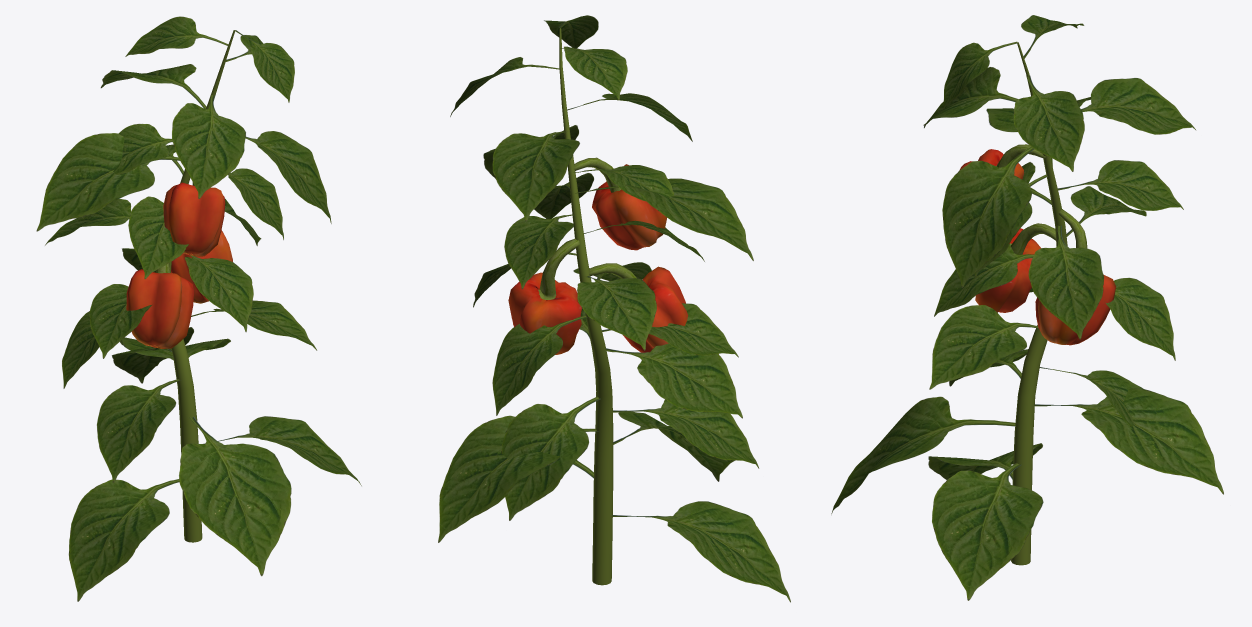
The model's file is bellpepper_step10-transformed.glb.
3 renders of one model, left to right at view 1: azimuth 30°, elevation 25°; view 2: azimuth 150°, elevation 25°; view 3: azimuth 270°, elevation 25°, orthographic. The views are drawn at different scales.
Parts seen in each view (by area): view 1: result9; view 2: result9; view 3: result9.
Boxes of the visible parts, x1=… form: result9: x1=36, y1=16, x2=361, y2=601; result9: x1=438, y1=15, x2=790, y2=602; result9: x1=831, y1=15, x2=1223, y2=600.
Size of the model in its own units: 9.58 by 15.28 by 10.12.
4 materials, 4 textured.
